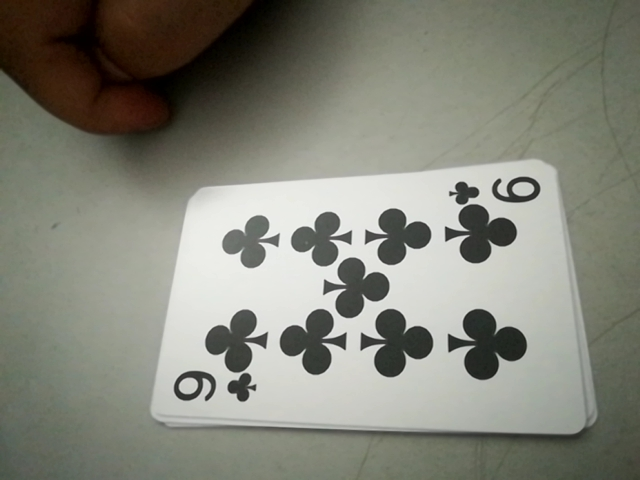mh 9: (164, 365, 262, 416), (447, 170, 549, 211)
